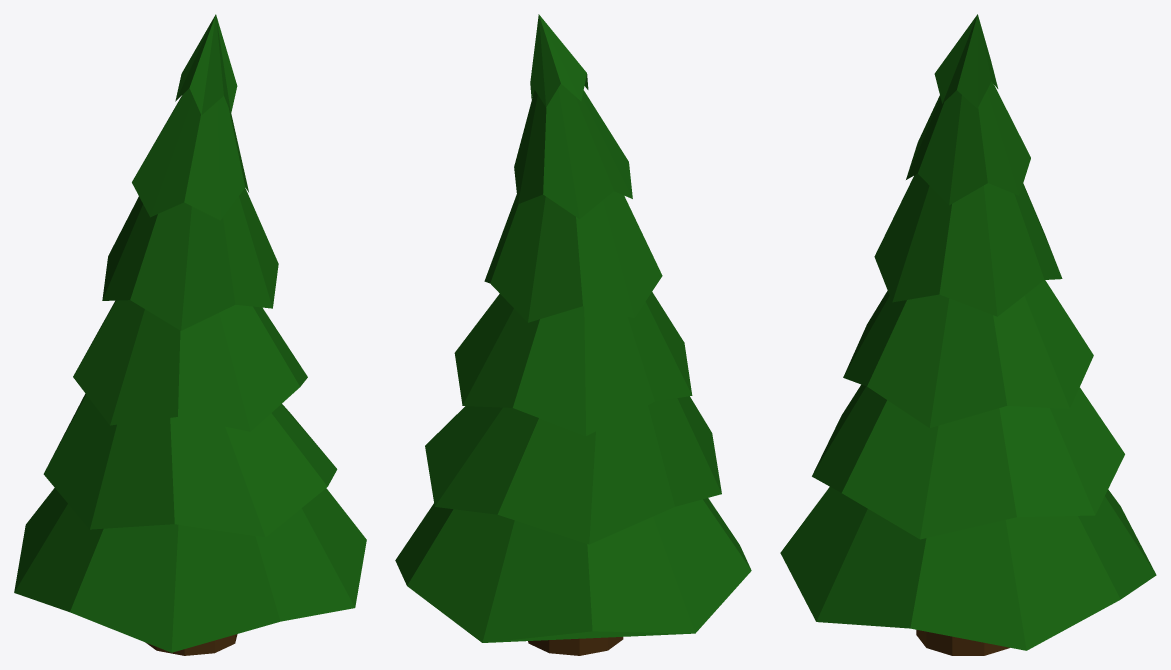
The model's file is Spruce2.fbx.
3 views of the same model, side by side, from view 1: azimuth 30°, elevation 25°; view 2: azimuth 150°, elevation 25°; view 3: azimuth 270°, elevation 25° (orthographic). The views are drawn at different scales.
Parts seen in each view (by area): view 1: Treer; view 2: Treer; view 3: Treer.
Part boxes in pixels (left/top/right/bottom): Treer: left=14, top=14, right=366, bottom=655; Treer: left=395, top=14, right=751, bottom=655; Treer: left=780, top=14, right=1156, bottom=655.
Size of the model in its own units: 541 by 1062 by 569.
